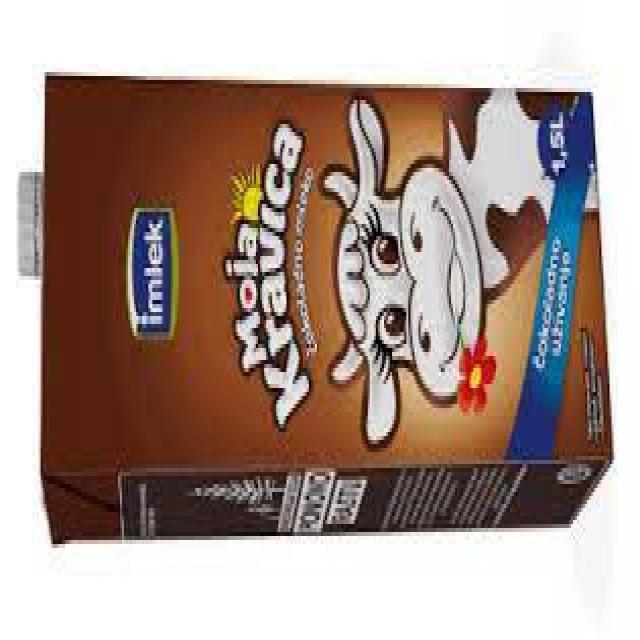non_white_jug: (15, 65, 618, 550)
